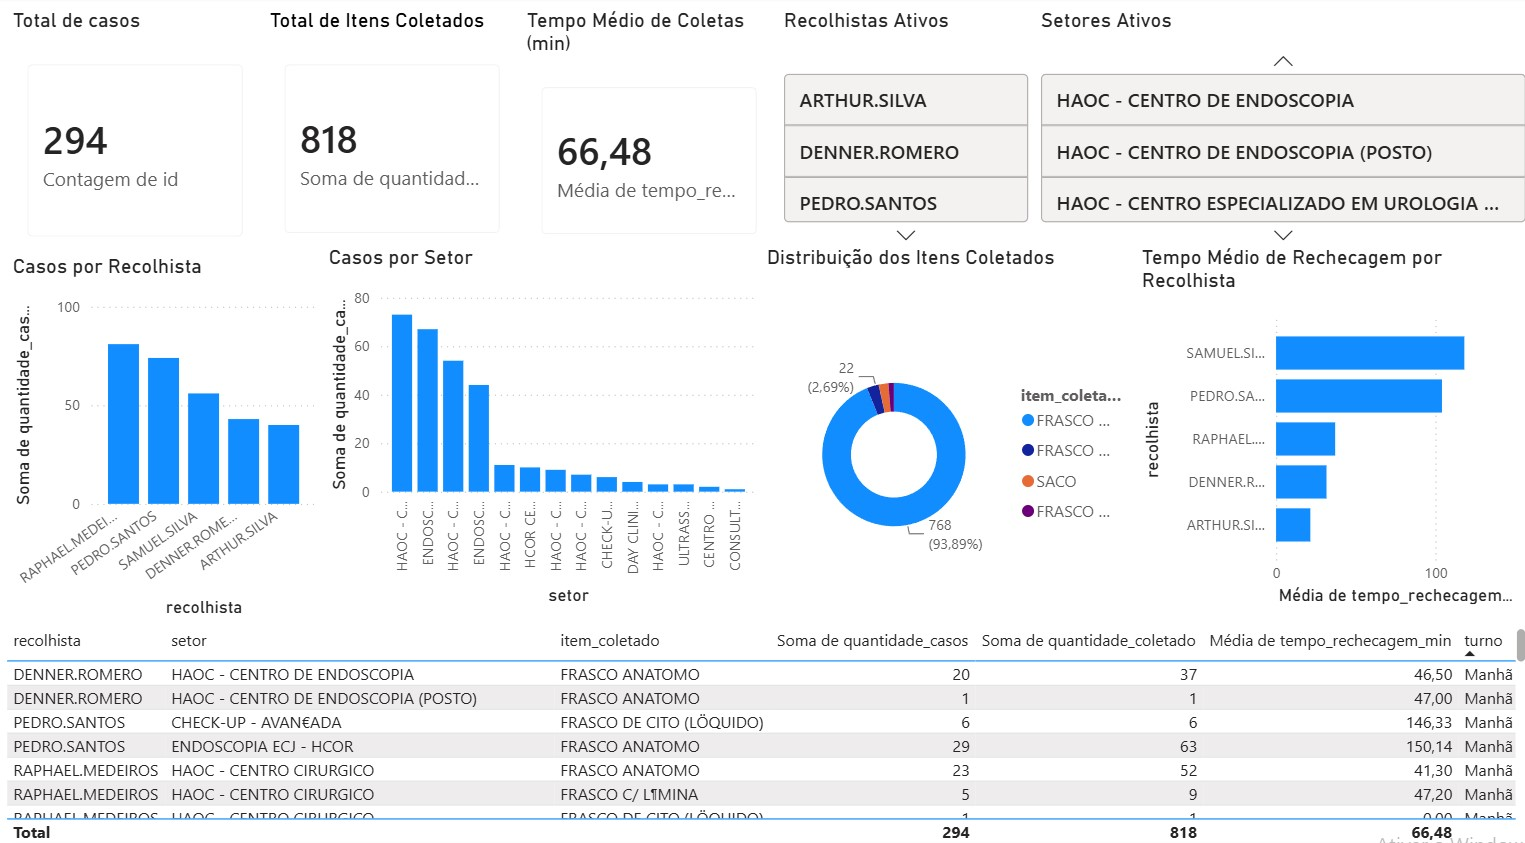

Layout of this report page (visuals, bound fields, positions):
{"tool":"powerbi","page":{"name":"Página 1","canvas":[1280,720],"ordinal":0},"visuals":[{"type":"cardVisual","title":"Total de casos","fields":{"Data":["CountNonNull(cicap coletas.id)"]},"box":[6.2,8.9,214.6,208.4],"z":0},{"type":"cardVisual","title":"Total de Itens Coletados","fields":{"Data":["Sum(cicap coletas.quantidade_coletado)"]},"box":[220.8,8.9,214.6,205.7],"z":1000},{"type":"cardVisual","title":"Tempo Médio de Coletas (min)","fields":{"Data":["Avg(cicap coletas.tempo_rechecagem_min)"]},"box":[435.4,8.9,214.6,206.6],"z":2000},{"type":"cardVisual","title":"Setores Ativos","fields":{"Rows":["cicap coletas.setor"]},"box":[864.5,9.2,415.1,205.5],"z":3000},{"type":"cardVisual","title":"Recolhistas Ativos","fields":{"Rows":["cicap coletas.recolhista"]},"box":[650,8.9,214.6,205.7],"z":4000},{"type":"clusteredColumnChart","title":"Casos por Recolhista","fields":{"Category":["cicap coletas.recolhista"],"Y":["Sum(cicap coletas.quantidade_casos)"]},"box":[6.2,214.6,263.3,307.7],"z":5000},{"type":"clusteredColumnChart","title":"Casos por Setor","fields":{"Category":["cicap coletas.setor"],"Y":["Sum(cicap coletas.quantidade_casos)"]},"box":[269.6,207.5,366.2,305],"z":6000},{"type":"donutChart","title":"Distribuição dos Itens Coletados","fields":{"Category":["cicap coletas.item_coletado"],"Y":["Sum(cicap coletas.quantidade_coletado)"]},"box":[635.8,207.5,313,320.1],"z":7000},{"type":"barChart","title":"Tempo Médio de Rechecagem por Recolhista","fields":{"Category":["cicap coletas.recolhista"],"Y":["Avg(cicap coletas.tempo_rechecagem_min)"]},"box":[948.8,207.5,331.6,305],"z":8000},{"type":"tableEx","fields":{"Values":["cicap coletas.recolhista","cicap coletas.setor","cicap coletas.item_coletado","Sum(cicap coletas.quantidade_casos)","Sum(cicap coletas.quantidade_coletado)","Avg(cicap coletas.tempo_rechecagem_min)","cicap coletas.turno"]},"box":[0,522.3,1280.4,197.7],"z":9000}]}

Visuals, with their boxes in screenshot pixels (x1, y1, x2, y2), scaled from the page's 1280x720 canvas onto the 1525x843 screenshot:
"Total de casos" cardVisual: bbox=[7, 10, 263, 254]
"Total de Itens Coletados" cardVisual: bbox=[263, 10, 519, 251]
"Tempo Médio de Coletas (min)" cardVisual: bbox=[519, 10, 774, 252]
"Setores Ativos" cardVisual: bbox=[1030, 11, 1524, 251]
"Recolhistas Ativos" cardVisual: bbox=[774, 10, 1030, 251]
"Casos por Recolhista" clusteredColumnChart: bbox=[7, 251, 321, 612]
"Casos por Setor" clusteredColumnChart: bbox=[321, 243, 757, 600]
"Distribuição dos Itens Coletados" donutChart: bbox=[757, 243, 1130, 618]
"Tempo Médio de Rechecagem por Recolhista" barChart: bbox=[1130, 243, 1524, 600]
tableEx - cicap coletas.recolhista x cicap coletas.setor: bbox=[0, 612, 1524, 842]
